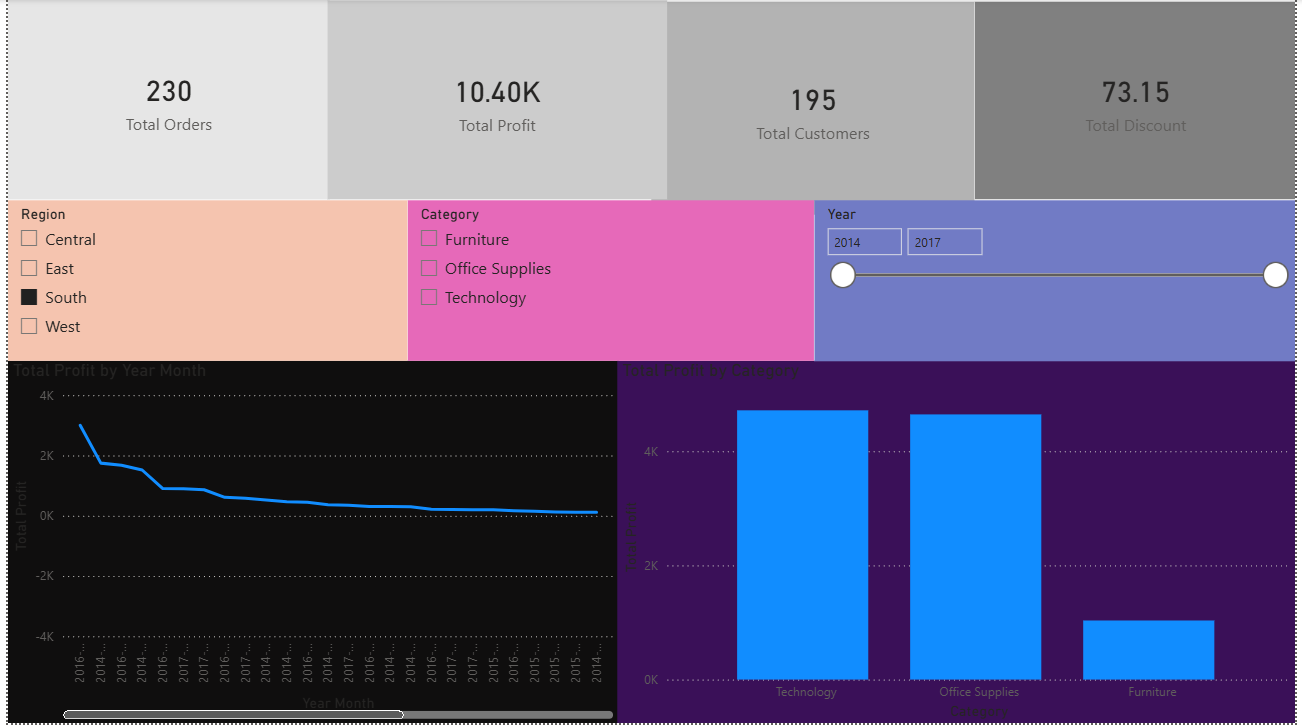

What the dashboard file says about the page in this screenshot:
{"tool":"powerbi","page":{"name":"EXECUTIVE OVERVIEW","canvas":[1280,720],"ordinal":0},"visuals":[{"type":"card","fields":{"Values":["Customer_Dim.Total Orders"]},"box":[0,0,319.8,199.5],"z":0},{"type":"card","fields":{"Values":["Customer_Dim.Total Discount"]},"box":[960.9,3.2,319.8,196.3],"z":1},{"type":"card","fields":{"Values":["Customer_Dim.Total Customers"]},"box":[639.6,3.2,321.4,212.1],"z":2},{"type":"card","fields":{"Values":["Customer_Dim.Total Profit"]},"box":[318.2,1.6,337.2,197.9],"z":3},{"type":"lineChart","fields":{"Category":["Date_Dim.Year Month"],"Y":["Customer_Dim.Total Profit"]},"box":[0,359.4,606.3,360.9],"z":4},{"type":"clusteredColumnChart","fields":{"Category":["Product_Dim.Category"],"Y":["Customer_Dim.Total Profit"]},"box":[606.3,359.4,674.4,360.9],"z":5},{"type":"slicer","fields":{"Values":["Date_Dim.Year"]},"box":[801,199.5,479.7,159.9],"z":6},{"type":"slicer","fields":{"Values":["Location_Dim.Region"]},"box":[0,199.5,397.3,159.9],"z":7},{"type":"slicer","fields":{"Values":["Product_Dim.Category"]},"box":[397.3,199.5,403.7,159.9],"z":8}]}

Visuals, with their boxes in screenshot pixels (x1, y1, x2, y2), scaled from the page's 1280x720 canvas onto the 1302x728 screenshot:
card - Customer_Dim.Total Orders: Rect(0, 0, 325, 202)
card - Customer_Dim.Total Discount: Rect(977, 3, 1301, 202)
card - Customer_Dim.Total Customers: Rect(651, 3, 978, 218)
card - Customer_Dim.Total Profit: Rect(324, 2, 667, 202)
lineChart - Date_Dim.Year Month x Customer_Dim.Total Profit: Rect(0, 363, 617, 727)
clusteredColumnChart - Product_Dim.Category x Customer_Dim.Total Profit: Rect(617, 363, 1301, 727)
slicer - Date_Dim.Year: Rect(815, 202, 1301, 363)
slicer - Location_Dim.Region: Rect(0, 202, 404, 363)
slicer - Product_Dim.Category: Rect(404, 202, 815, 363)
